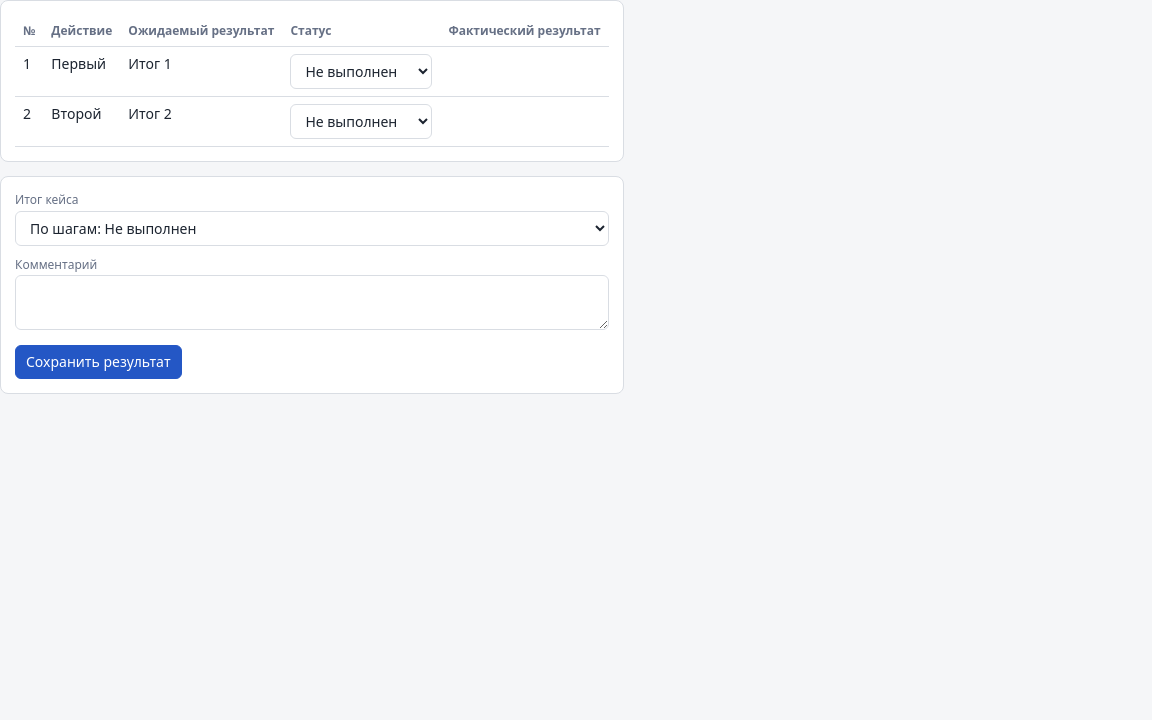
it: форма результата › провал показывает ссылку на заведённый, затем на связанный дефект
Select "Провален" in the dropdown named "Статус шага 1": x=361, y=72 [290,54,432,89]
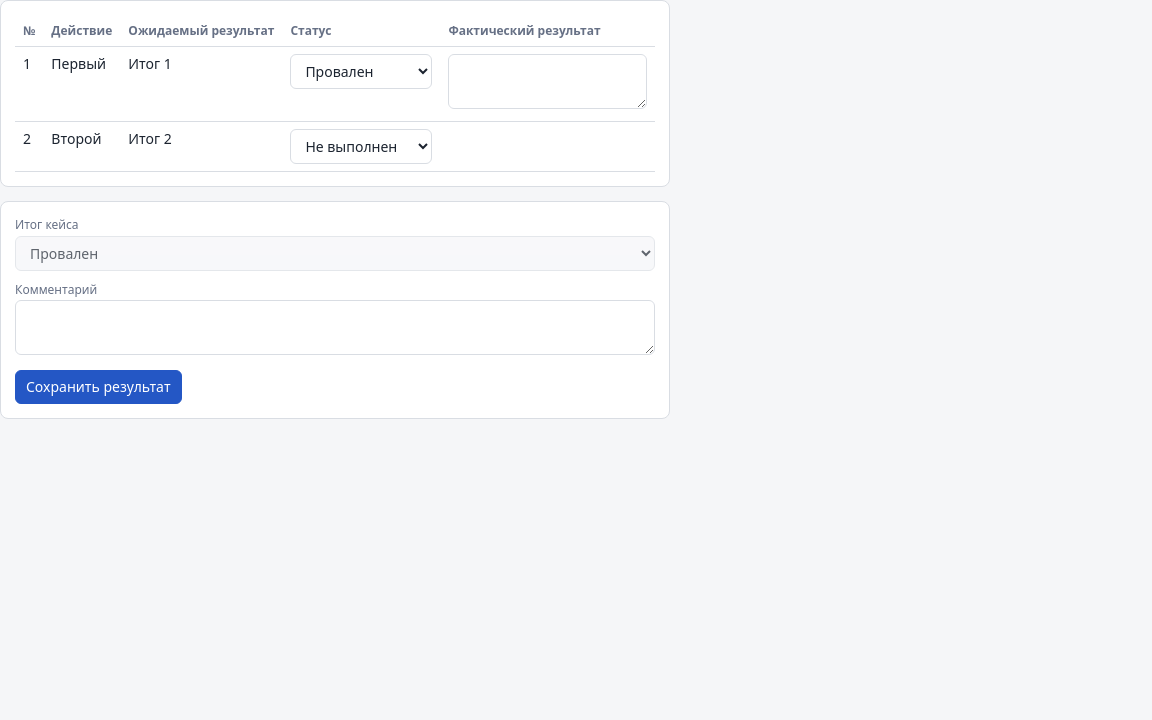
In the text box named "Фактический результат шага 1": x=548, y=82 [448,54,647,109], type "201 Created"
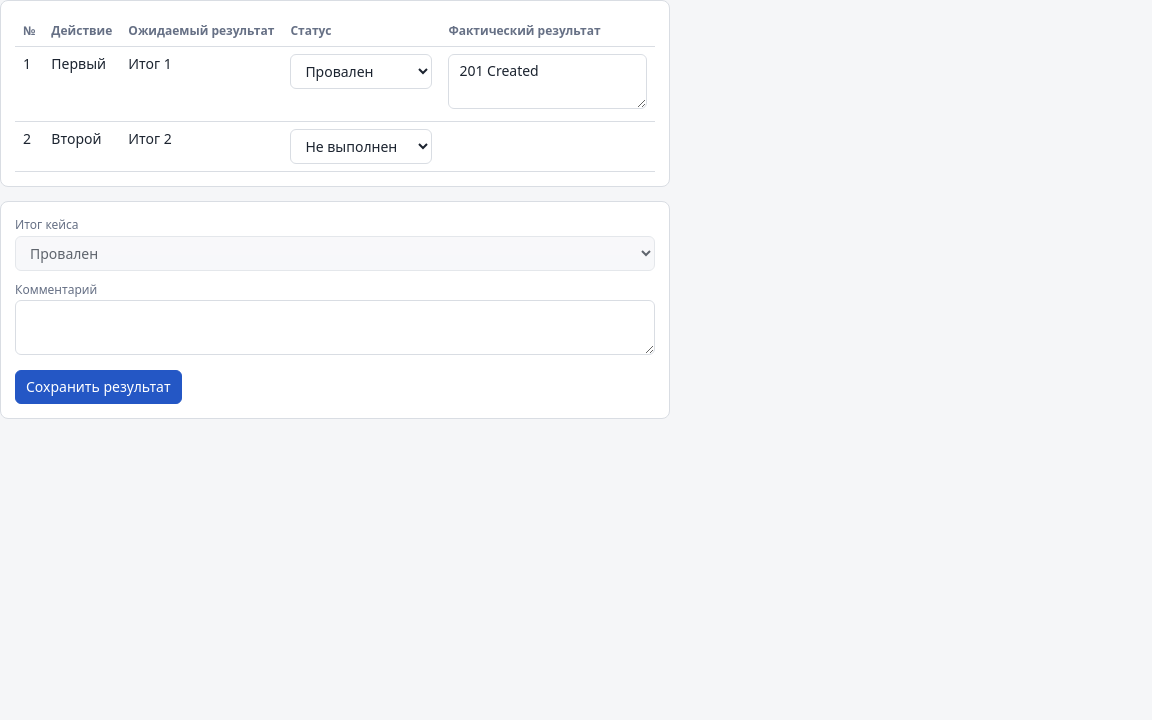
Click the button "Сохранить результат": x=98, y=387 [15,370,182,404]
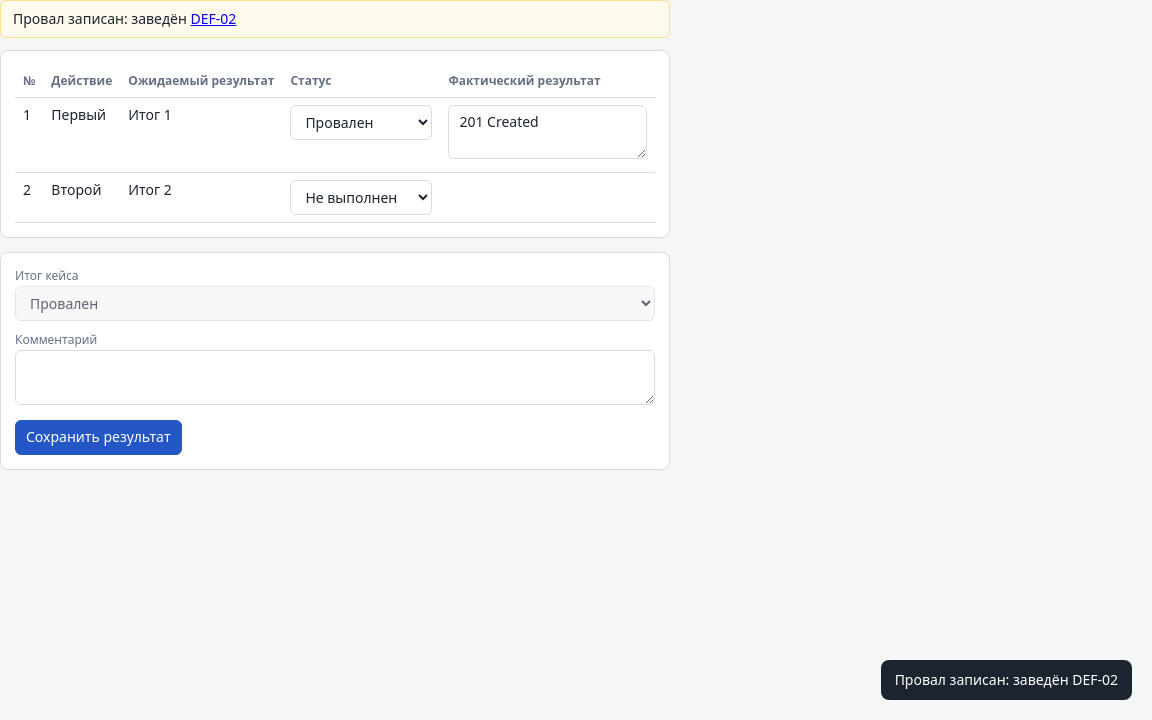
Expected: the text "Провал записан: заведён DEF-02" is shown, [0,0,670,38]
Click the button "Сохранить результат": x=98, y=437 [15,420,182,455]
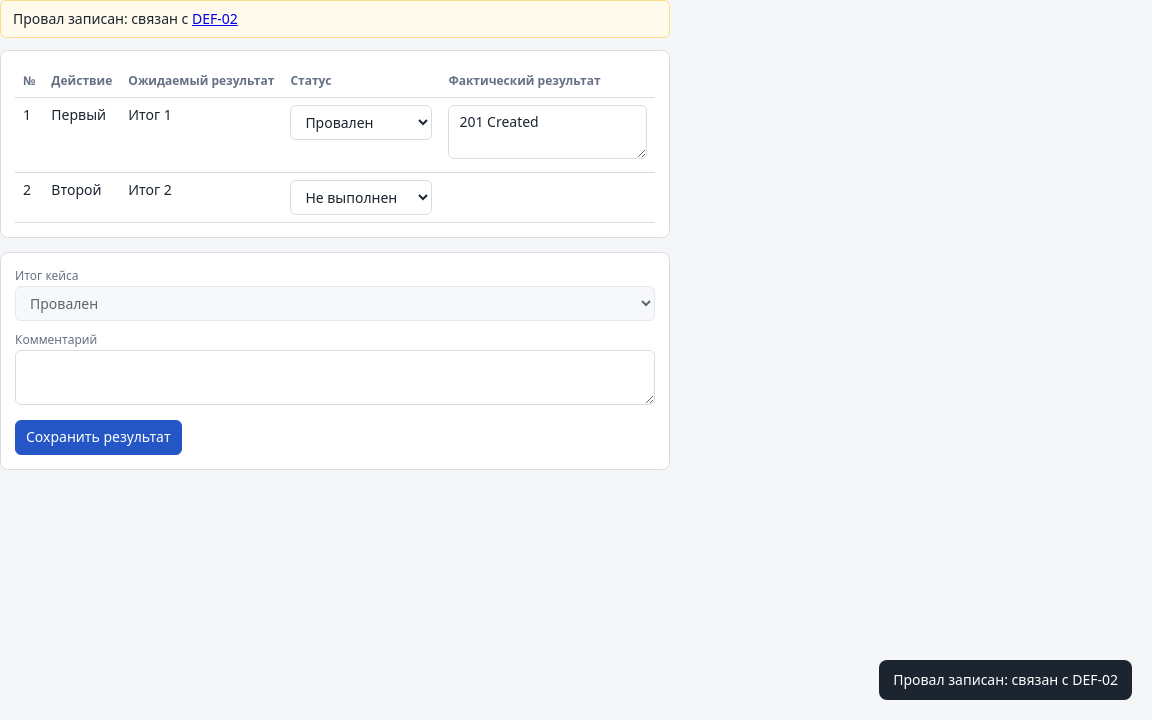
Expected: the text "Провал записан: связан с DEF-02" is shown, [0,0,670,38]
